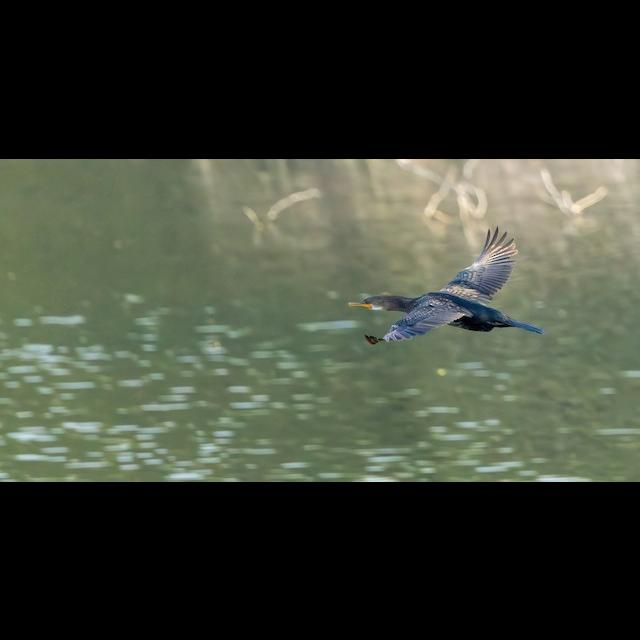cormorant: (347, 228, 545, 346)
